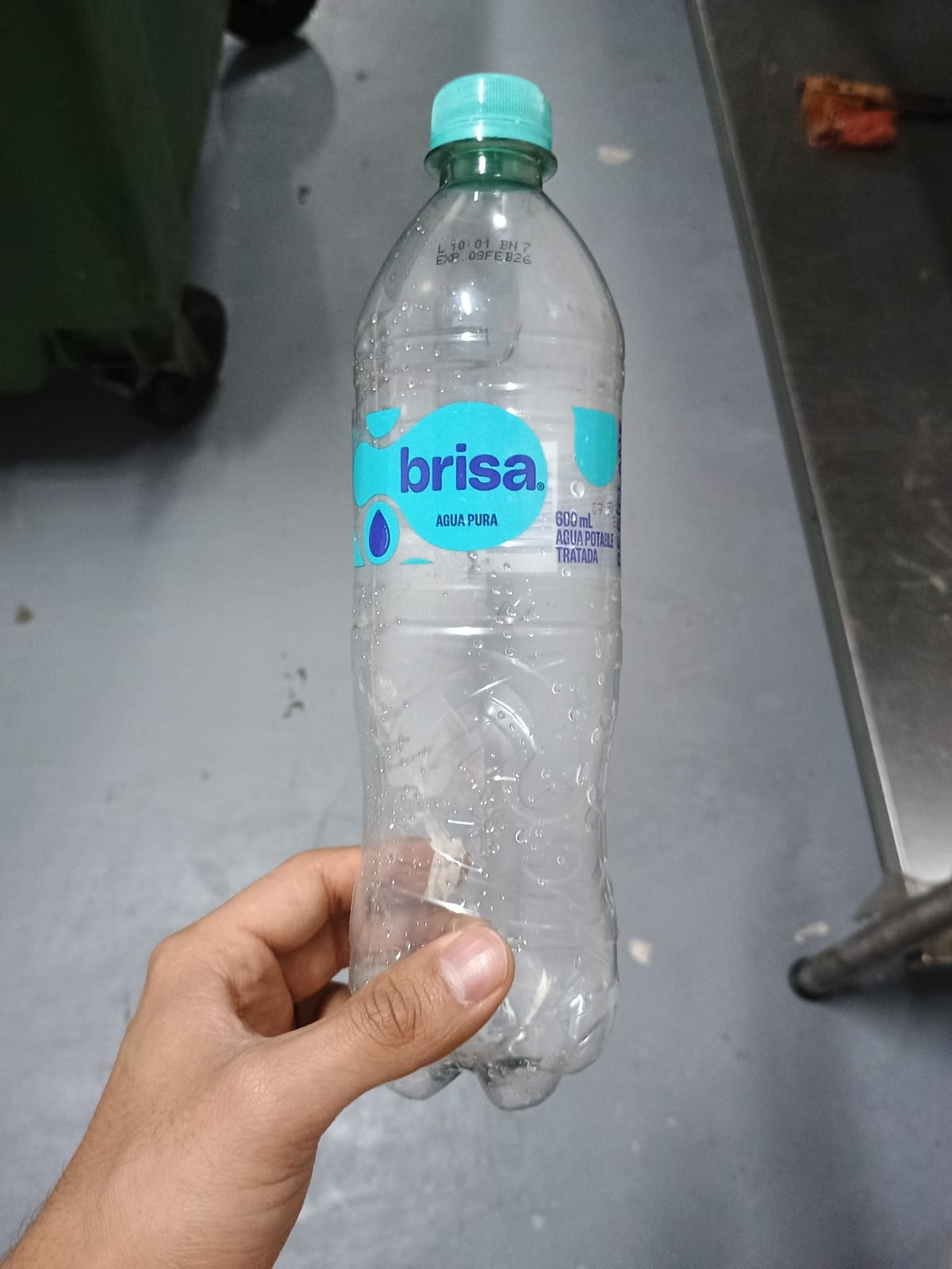Plastico: (351, 67, 627, 1110)
